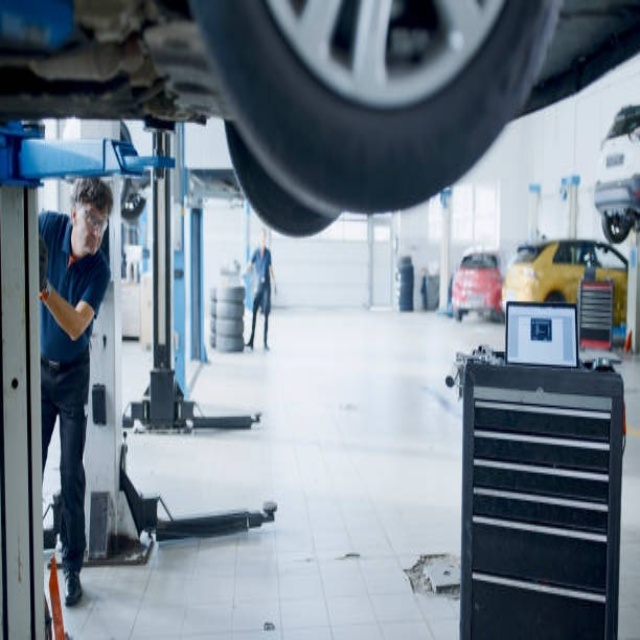Gafas: (80, 207, 106, 232)
